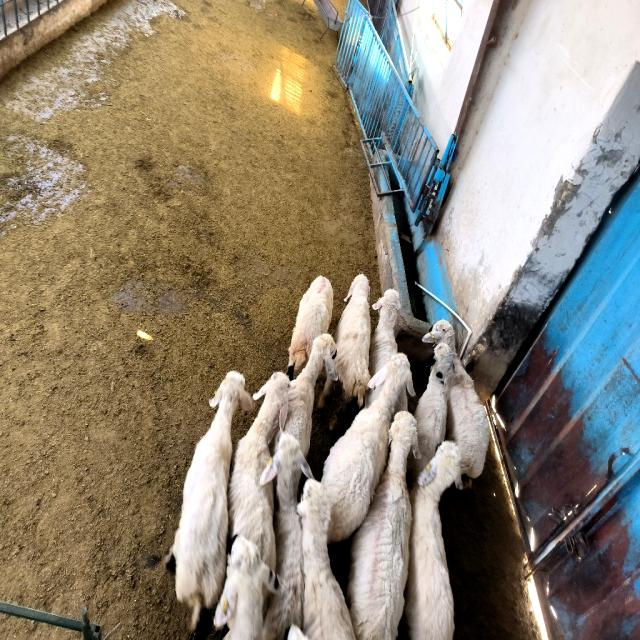sheep: (165, 372, 254, 629), (321, 353, 415, 542), (346, 412, 418, 640), (228, 372, 290, 570), (404, 442, 460, 639), (422, 320, 489, 478), (262, 432, 312, 639), (214, 535, 279, 640), (284, 333, 338, 456), (329, 273, 370, 430), (408, 360, 451, 488), (288, 275, 334, 380), (369, 288, 401, 376), (318, 375, 332, 408)
